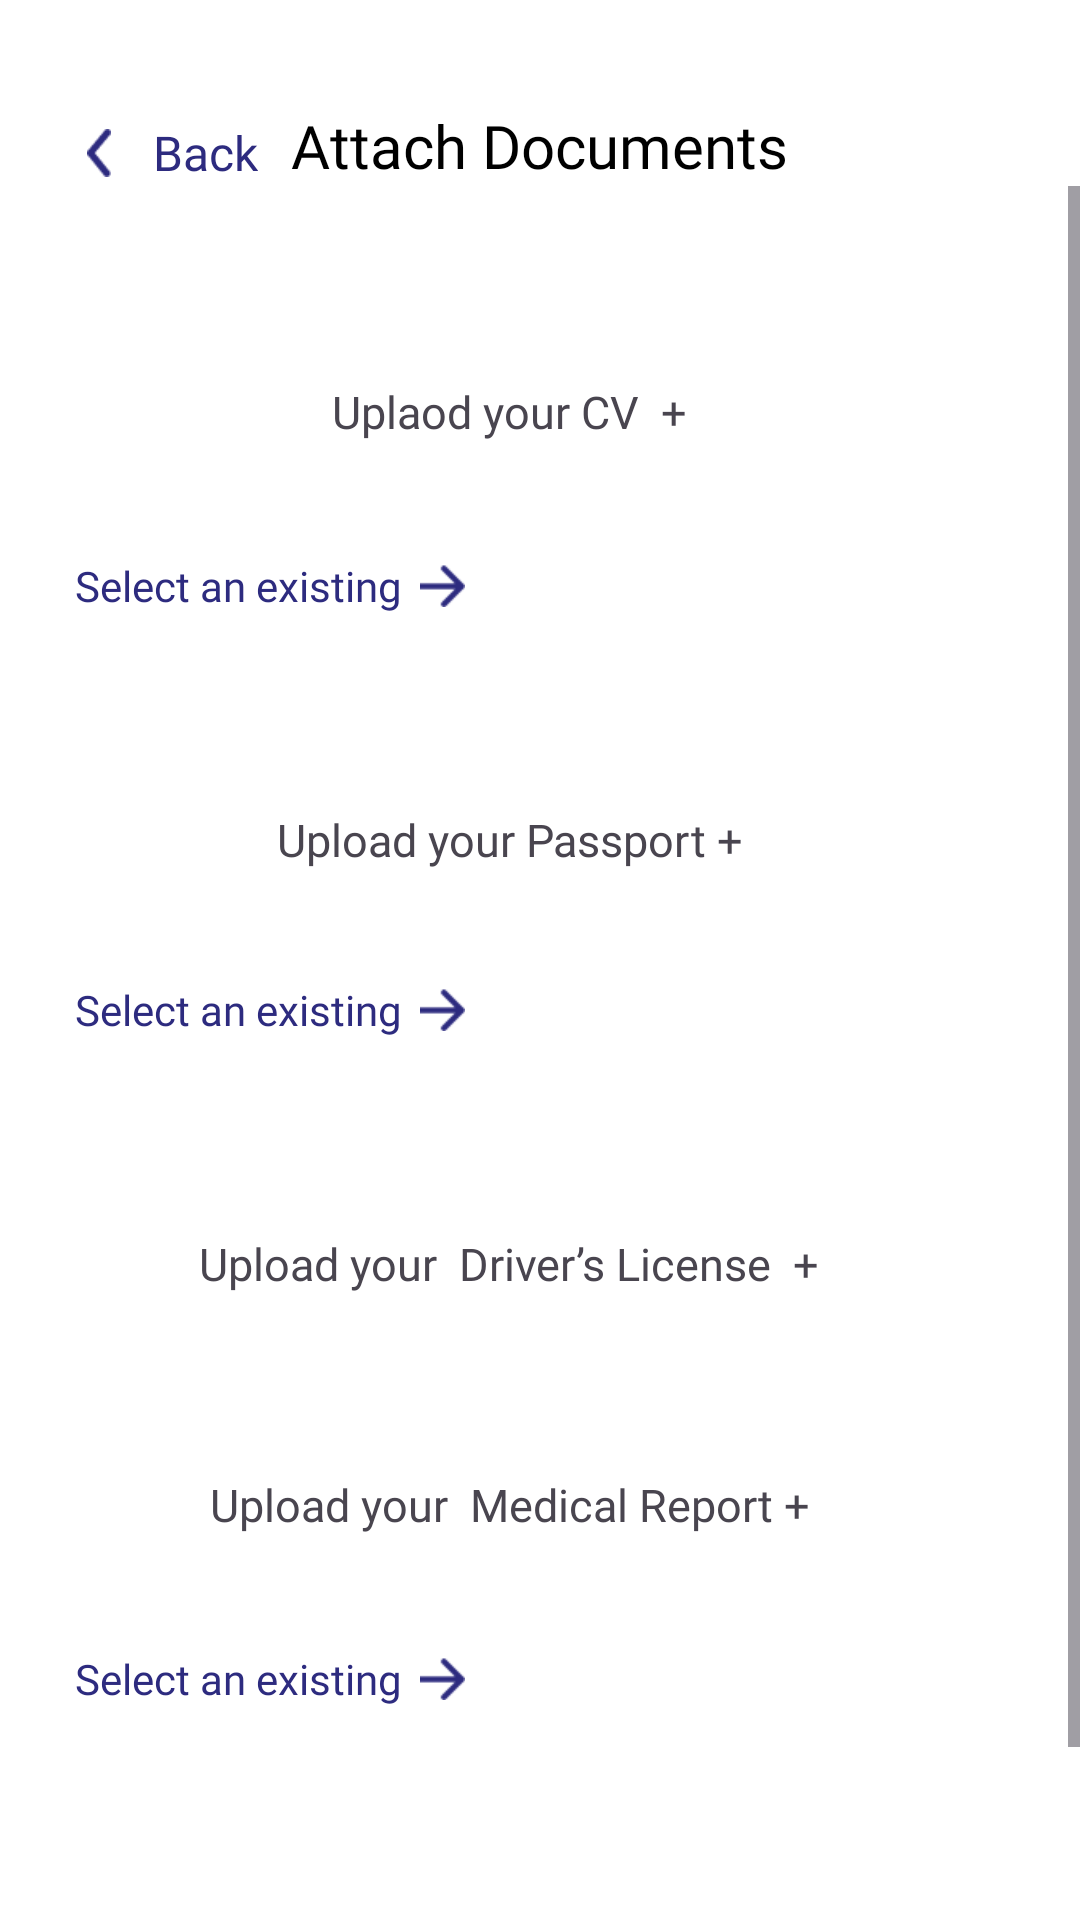

Named icons in this screenshot (1080x1920) and their bounding boxes, (x1, y1, x2, y2):
forward arrow: (420, 565, 465, 607), (420, 989, 465, 1031), (420, 1658, 465, 1700)
